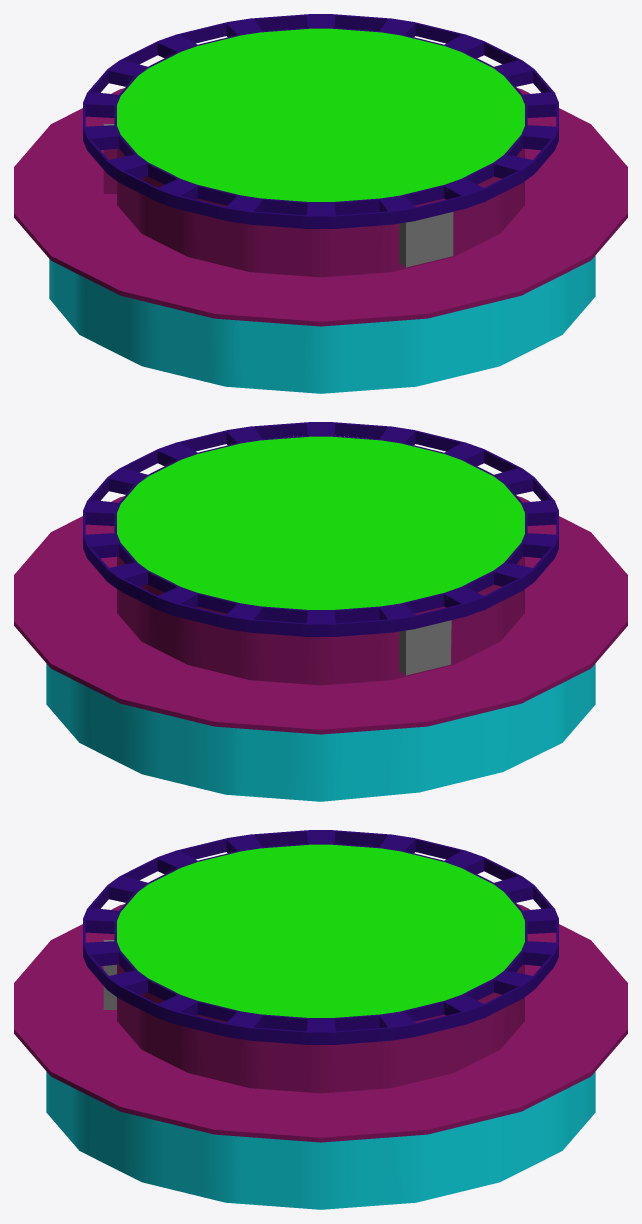
File: FBX_Heliport.fbx
3 renders of one model, top to bottom at view 1: azimuth 30°, elevation 25°; view 2: azimuth 150°, elevation 25°; view 3: azimuth 270°, elevation 25°, orthographic.
Parts seen in each view (by area): view 1: Cylinder001; view 2: Cylinder001; view 3: Cylinder001.
Part boxes in pixels (left/top/right/bottom): Cylinder001: left=14, top=14, right=627, bottom=393; Cylinder001: left=14, top=422, right=627, bottom=801; Cylinder001: left=14, top=830, right=627, bottom=1209.
Bounding box in the file's own units: 17.75 × 5.04 × 17.48.
